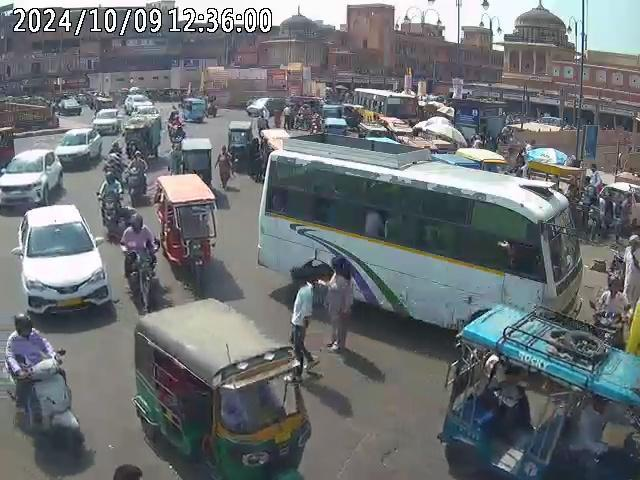auto: (437, 301, 637, 479), (128, 294, 311, 479), (151, 172, 218, 287), (120, 113, 161, 163), (226, 118, 258, 171), (0, 125, 16, 168)
bus: (254, 134, 587, 339), (352, 86, 416, 124)
car: (14, 204, 111, 318), (0, 148, 64, 211), (53, 128, 103, 169), (91, 107, 123, 134), (123, 94, 156, 115), (55, 98, 82, 116)
helmet: (11, 312, 35, 335), (126, 212, 144, 230), (104, 170, 120, 182)
license_plate: (271, 428, 297, 447), (55, 296, 86, 310)
motorbike-rider: (117, 213, 161, 309), (96, 170, 127, 237)
person: (286, 266, 320, 380)
scooty-rider: (0, 311, 81, 464), (122, 152, 146, 205)
